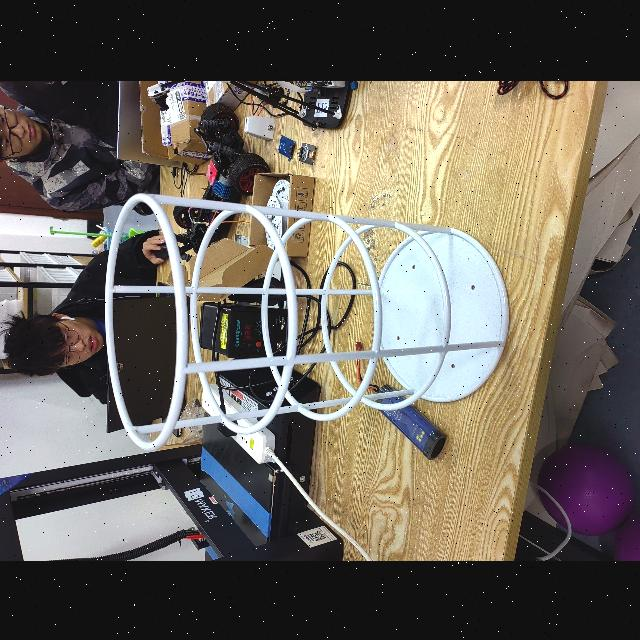S: (96, 186, 512, 454)
